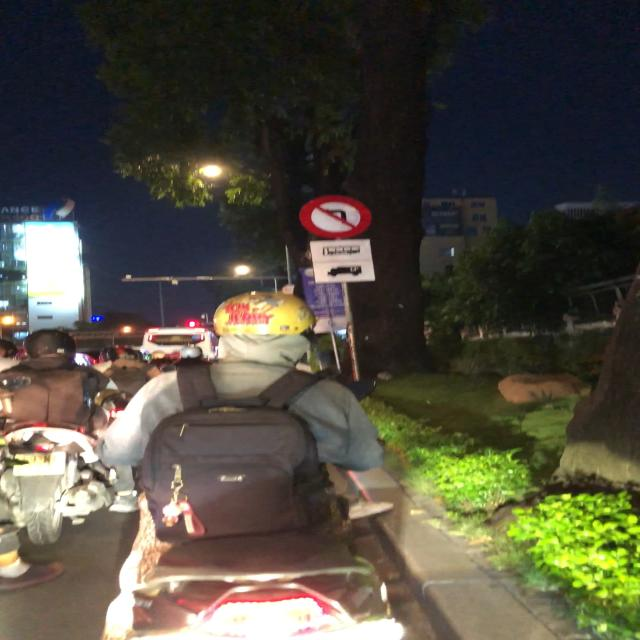Bien bao cam re trai: (295, 194, 373, 240)
